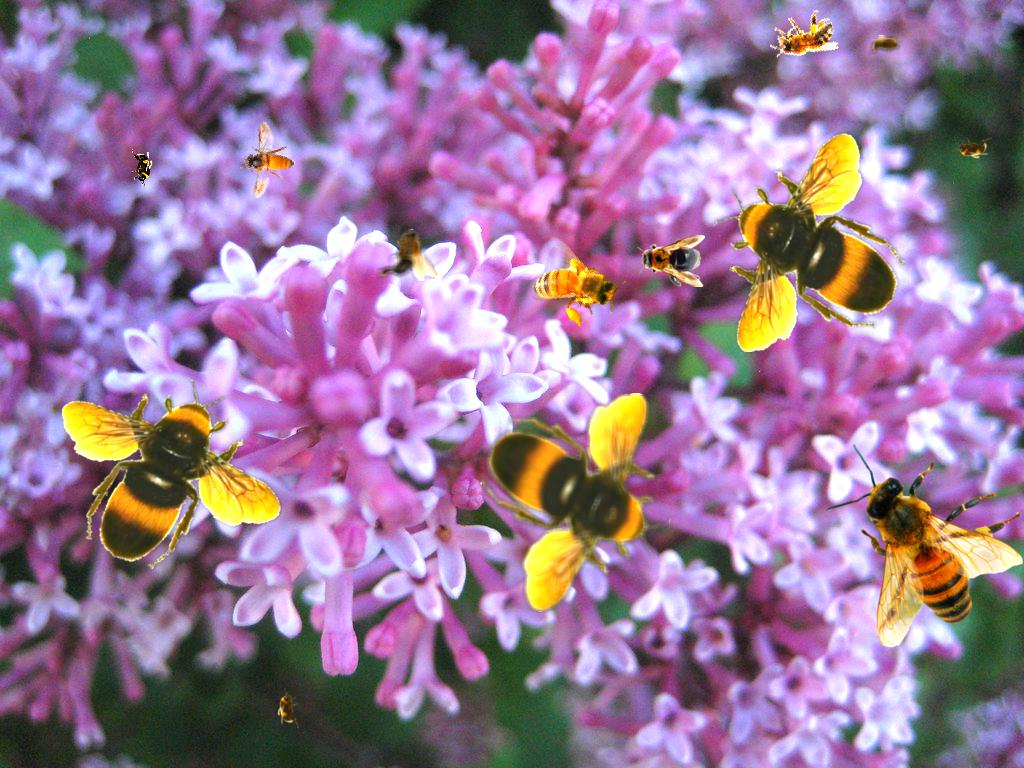Bee: (714, 132, 905, 352), (62, 378, 282, 569), (480, 393, 671, 613), (824, 444, 1023, 648), (516, 230, 632, 341), (228, 120, 306, 207), (763, 5, 841, 70), (637, 235, 705, 287), (375, 228, 437, 281), (277, 688, 299, 728), (866, 34, 906, 56), (952, 137, 992, 159), (131, 148, 153, 188)
